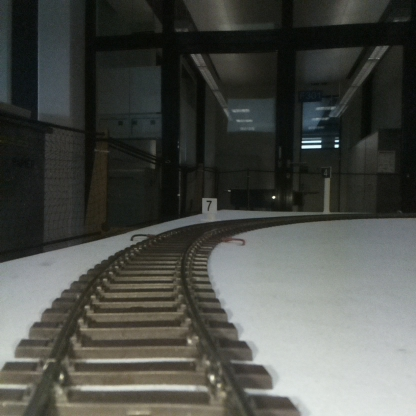black-info-4: (322, 165, 330, 212)
white-stop-7: (202, 197, 216, 218)
